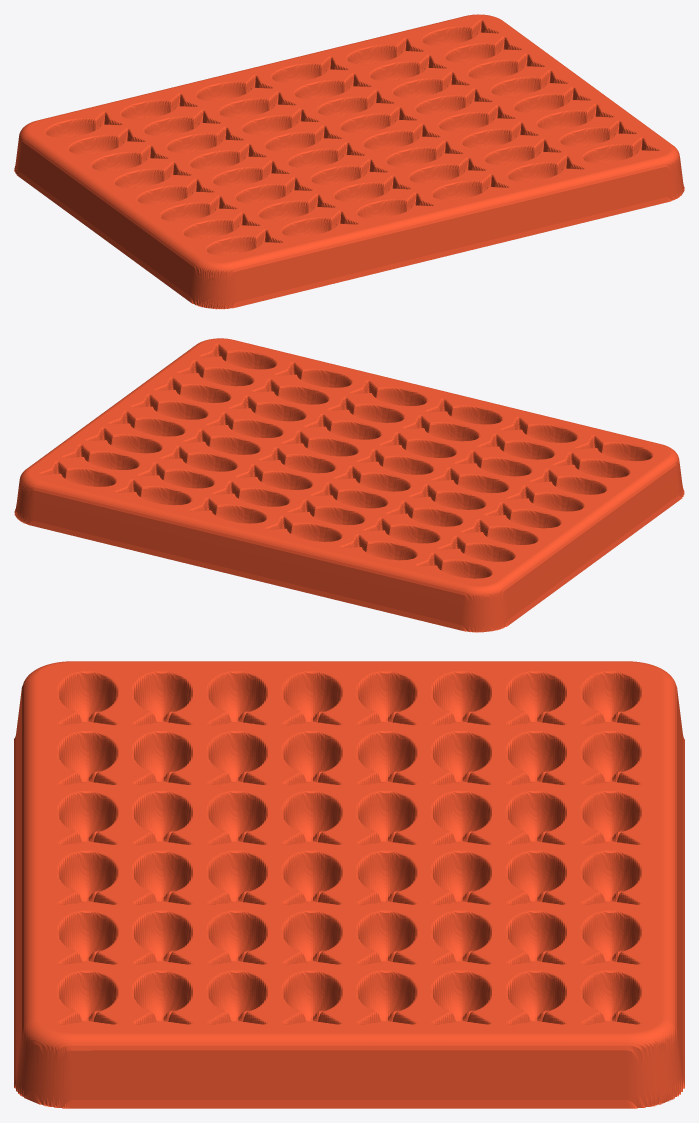
The model's file is mold.glb.
3 views of the same model, one above another, from view 1: azimuth 30°, elevation 25°; view 2: azimuth 150°, elevation 25°; view 3: azimuth 270°, elevation 25° (orthographic). The views are drawn at different scales.
Visible parts, largest first — view 1: geometry_0; view 2: geometry_0; view 3: geometry_0.
Part boxes in pixels (bbox=[...]): geometry_0: bbox=[14, 14, 684, 309]; geometry_0: bbox=[14, 338, 684, 632]; geometry_0: bbox=[14, 661, 684, 1108].
Bounding box in the file's own units: 0.1443 × 0.0114 × 0.1049.
